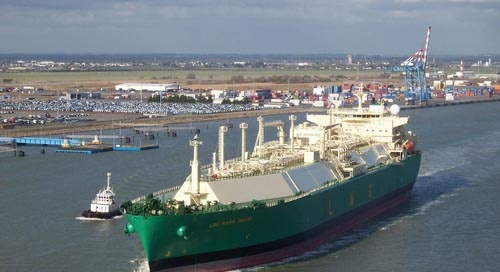Cargoship: (119, 82, 423, 267)
otherboat: (79, 176, 122, 223)
